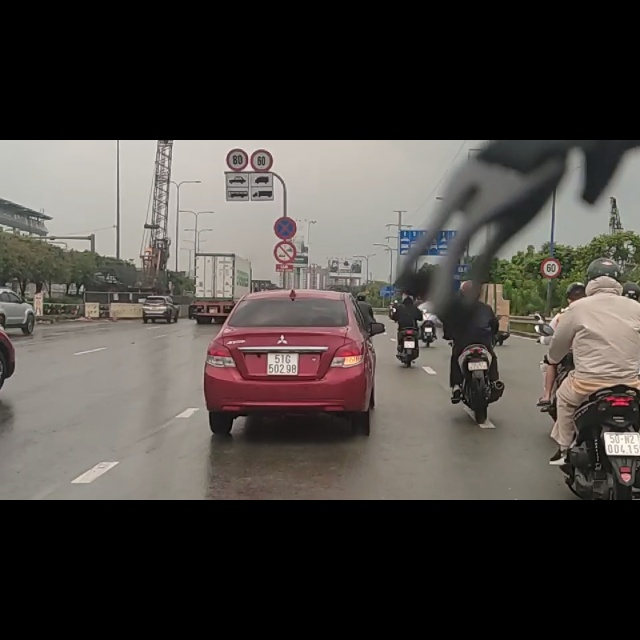bien_chi_dan: (273, 136, 297, 175), (225, 15, 248, 55), (251, 17, 273, 56), (541, 211, 560, 244)
